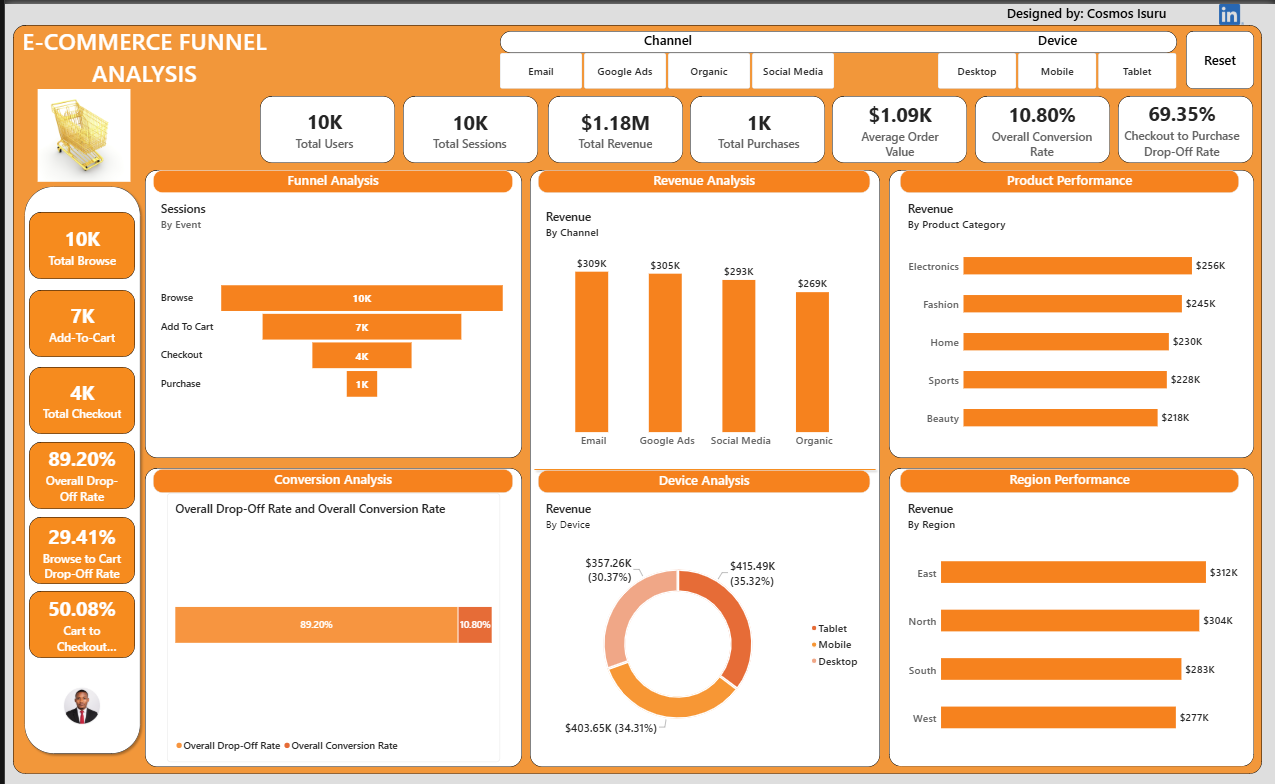

What the dashboard file says about the page in this screenshot:
{"tool":"powerbi","page":{"name":"Page 1","canvas":[2600,1600],"ordinal":0},"visuals":[{"type":"shape","box":[16.4,43,2557,1533.4],"z":0},{"type":"shape","box":[31,365.3,255.5,1179.4],"z":1000},{"type":"textbox","box":[16.4,43,538.4,131],"z":2000},{"type":"shape","box":[1013.4,55.3,1386,45],"z":3000},{"type":"actionButton","box":[2417.8,55.3,139.2,118.7],"z":4000},{"type":"shape","box":[286.6,339.8,771.8,589.6],"z":5000},{"type":"shape","box":[1809.7,950.2,747.3,611.2],"z":6000},{"type":"shape","box":[286.6,949.9,771.8,612.1],"z":7000},{"type":"shape","box":[1809.8,339.8,747.2,589.6],"z":8000},{"type":"shape","box":[522,188.3,276.4,137.2],"z":9000},{"type":"shape","box":[814.8,188.3,276.4,137.2],"z":10000},{"type":"shape","box":[1111.7,188.3,276.4,137.2],"z":11000},{"type":"shape","box":[1402.4,188.3,276.4,137.2],"z":12000},{"type":"shape","box":[1693.1,188.3,276.4,137.2],"z":13000},{"type":"shape","box":[1985.8,188.3,276.4,137.2],"z":14000},{"type":"shape","box":[2278.6,188.3,276.4,137.2],"z":15000},{"type":"image","box":[50.1,1363.3,217.3,145.6],"z":16000},{"type":"textbox","box":[2010.4,0,407.4,43],"z":17000},{"type":"shape","box":[49.1,426.2,217,137.2],"z":18000},{"type":"shape","box":[49.1,585.9,217,137.2],"z":19000},{"type":"shape","box":[49.1,743.5,217,137.2],"z":20000},{"type":"shape","box":[49.1,897,217,137.2],"z":21000},{"type":"shape","box":[49.1,1050.2,217,137.2],"z":22000},{"type":"shape","box":[49.1,1202.1,217,137.2],"z":23000},{"type":"image","box":[2448.5,0,124.9,43],"z":24000},{"type":"shape","box":[1074.8,339.8,716.5,1222.2],"z":25000},{"type":"shape","box":[1074.8,800.5,716.5,305],"z":26000},{"type":"cardVisual","fields":{"Data":["funnel_analysis_data.Total Browse"]},"box":[62.1,427.4,193.4,136.1],"z":27000},{"type":"cardVisual","fields":{"Data":["funnel_analysis_data.Total Add-to-Cart"]},"box":[62.1,584.9,193.4,136.1],"z":28000},{"type":"cardVisual","fields":{"Data":["funnel_analysis_data.Total Checkout"]},"box":[62.1,740.1,193.4,138.5],"z":29000},{"type":"cardVisual","fields":{"Data":["funnel_analysis_data.Overall Drop-Off Rate"]},"box":[61.4,894.6,192.4,137.2],"z":30000},{"type":"advancedSlicerVisual","fields":{"Values":["funnel_analysis_data.Device"]},"box":[1910.1,100.3,489.3,73.7],"z":31000},{"type":"advancedSlicerVisual","fields":{"Values":["funnel_analysis_data.Channel"]},"box":[1013.4,100.3,687.9,73.7],"z":32000},{"type":"image","box":[36.9,174,249.8,190.4],"z":33000},{"type":"textbox","box":[2024.7,55.3,260,45],"z":34000},{"type":"textbox","box":[1234.5,55.3,245.7,45],"z":35000},{"type":"cardVisual","fields":{"Data":["funnel_analysis_data.Total Users"]},"box":[536.4,188.3,235.4,137.2],"z":36000},{"type":"cardVisual","fields":{"Data":["funnel_analysis_data.Total Sessions"]},"box":[829.1,202.7,245.7,110.6],"z":37000},{"type":"cardVisual","fields":{"Data":["funnel_analysis_data.Total Revenue"]},"box":[1126,202.7,247.7,110.6],"z":38000},{"type":"cardVisual","fields":{"Data":["funnel_analysis_data.Total Purchases"]},"box":[1418.7,202.7,249.8,110.6],"z":39000},{"type":"cardVisual","fields":{"Data":["funnel_analysis_data.Average Order Value"]},"box":[1713.5,202.7,237.5,110.6],"z":40000},{"type":"cardVisual","fields":{"Data":["funnel_analysis_data.Overall Conversion Rate"]},"box":[2004.3,202.7,237.5,110.6],"z":41000},{"type":"cardVisual","fields":{"Data":["funnel_analysis_data.Checkout to Purchase Drop-Off Rate"]},"box":[2264.3,188.3,290.7,137.2],"z":42000},{"type":"cardVisual","fields":{"Data":["funnel_analysis_data.Browse to Cart Drop-Off Rate"]},"box":[61.4,1064.6,192.4,114.6],"z":43000},{"type":"cardVisual","fields":{"Data":["funnel_analysis_data.Cart to Checkout Drop-Off Rate"]},"box":[61.4,1207.9,192.4,124.9],"z":44000},{"type":"funnel","title":"Sessions","fields":{"Y":["funnel_analysis_data.Total Sessions"],"Category":["funnel_analysis_data.Event"]},"box":[303,386.9,737,528.2],"z":45000},{"type":"textbox","box":[303,339.8,737,47.1],"z":46000},{"type":"textbox","box":[303,952,737,49.1],"z":47000},{"type":"columnChart","title":"Revenue","fields":{"Category":["funnel_analysis_data.Channel"],"Y":["funnel_analysis_data.Total Revenue"]},"box":[1091.2,403.3,679.7,526.1],"z":48000},{"type":"barChart","fields":{"Y":["funnel_analysis_data.Overall Drop-Off Rate","funnel_analysis_data.Overall Conversion Rate"]},"box":[331.7,1001.1,681.7,550.7],"z":49000},{"type":"textbox","box":[1091.2,339.8,679.7,47.1],"z":50000},{"type":"textbox","box":[1091.2,954,679.7,47.1],"z":51000},{"type":"donutChart","title":"Revenue","fields":{"Category":["funnel_analysis_data.Device"],"Y":["funnel_analysis_data.Total Revenue"]},"box":[1091.2,1001.1,679.7,542.5],"z":52000},{"type":"textbox","box":[1832.3,339.8,694,47.1],"z":53000},{"type":"textbox","box":[1832.3,952,694,49.1],"z":54000},{"type":"clusteredBarChart","title":"Revenue","fields":{"Category":["funnel_analysis_data.Region"],"Y":["funnel_analysis_data.Total Revenue"]},"box":[1832.3,1001.1,708.3,542.5],"z":55000},{"type":"barChart","title":"Revenue","fields":{"Category":["funnel_analysis_data.Product_Category"],"Y":["funnel_analysis_data.Total Revenue"]},"box":[1832.3,386.9,694,528.2],"z":56000}]}

Visuals, with their boxes in screenshot pixels (x1, y1, x2, y2), scaled from the page's 2600x1600 canvas onto the 1275x784 screenshot:
shape: bbox=(8, 21, 1262, 772)
shape: bbox=(15, 179, 140, 757)
textbox: bbox=(8, 21, 272, 85)
shape: bbox=(497, 27, 1177, 49)
actionButton: bbox=(1186, 27, 1254, 85)
shape: bbox=(141, 167, 519, 455)
shape: bbox=(887, 466, 1254, 765)
shape: bbox=(141, 465, 519, 765)
shape: bbox=(887, 167, 1254, 455)
shape: bbox=(256, 92, 392, 159)
shape: bbox=(400, 92, 535, 159)
shape: bbox=(545, 92, 681, 159)
shape: bbox=(688, 92, 823, 159)
shape: bbox=(830, 92, 966, 159)
shape: bbox=(974, 92, 1109, 159)
shape: bbox=(1117, 92, 1253, 159)
image: bbox=(25, 668, 131, 739)
textbox: bbox=(986, 0, 1186, 21)
shape: bbox=(24, 209, 130, 276)
shape: bbox=(24, 287, 130, 354)
shape: bbox=(24, 364, 130, 432)
shape: bbox=(24, 440, 130, 507)
shape: bbox=(24, 515, 130, 582)
shape: bbox=(24, 589, 130, 656)
image: bbox=(1201, 0, 1262, 21)
shape: bbox=(527, 167, 878, 765)
shape: bbox=(527, 392, 878, 542)
cardVisual - funnel_analysis_data.Total Browse: bbox=(30, 209, 125, 276)
cardVisual - funnel_analysis_data.Total Add-to-Cart: bbox=(30, 287, 125, 353)
cardVisual - funnel_analysis_data.Total Checkout: bbox=(30, 363, 125, 431)
cardVisual - funnel_analysis_data.Overall Drop-Off Rate: bbox=(30, 438, 124, 506)
advancedSlicerVisual - funnel_analysis_data.Device: bbox=(937, 49, 1177, 85)
advancedSlicerVisual - funnel_analysis_data.Channel: bbox=(497, 49, 834, 85)
image: bbox=(18, 85, 141, 179)
textbox: bbox=(993, 27, 1120, 49)
textbox: bbox=(605, 27, 726, 49)
cardVisual - funnel_analysis_data.Total Users: bbox=(263, 92, 378, 159)
cardVisual - funnel_analysis_data.Total Sessions: bbox=(407, 99, 527, 154)
cardVisual - funnel_analysis_data.Total Revenue: bbox=(552, 99, 674, 154)
cardVisual - funnel_analysis_data.Total Purchases: bbox=(696, 99, 818, 154)
cardVisual - funnel_analysis_data.Average Order Value: bbox=(840, 99, 957, 154)
cardVisual - funnel_analysis_data.Overall Conversion Rate: bbox=(983, 99, 1099, 154)
cardVisual - funnel_analysis_data.Checkout to Purchase Drop-Off Rate: bbox=(1110, 92, 1253, 159)
cardVisual - funnel_analysis_data.Browse to Cart Drop-Off Rate: bbox=(30, 522, 124, 578)
cardVisual - funnel_analysis_data.Cart to Checkout Drop-Off Rate: bbox=(30, 592, 124, 653)
"Sessions" funnel: bbox=(149, 190, 510, 448)
textbox: bbox=(149, 167, 510, 190)
textbox: bbox=(149, 466, 510, 491)
"Revenue" columnChart: bbox=(535, 198, 868, 455)
barChart - funnel_analysis_data.Overall Drop-Off Rate x funnel_analysis_data.Overall Conversion Rate: bbox=(163, 491, 497, 760)
textbox: bbox=(535, 167, 868, 190)
textbox: bbox=(535, 467, 868, 491)
"Revenue" donutChart: bbox=(535, 491, 868, 756)
textbox: bbox=(899, 167, 1239, 190)
textbox: bbox=(899, 466, 1239, 491)
"Revenue" clusteredBarChart: bbox=(899, 491, 1246, 756)
"Revenue" barChart: bbox=(899, 190, 1239, 448)
